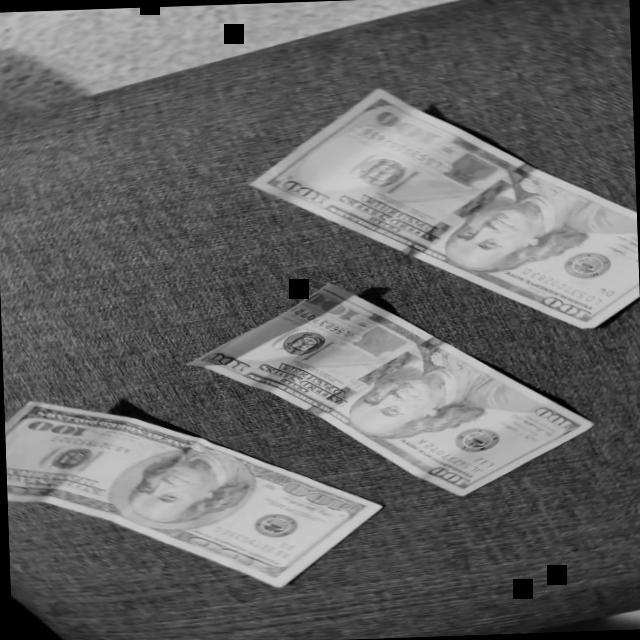hundred: (240, 75, 640, 341), (186, 278, 604, 504), (3, 390, 385, 594)
